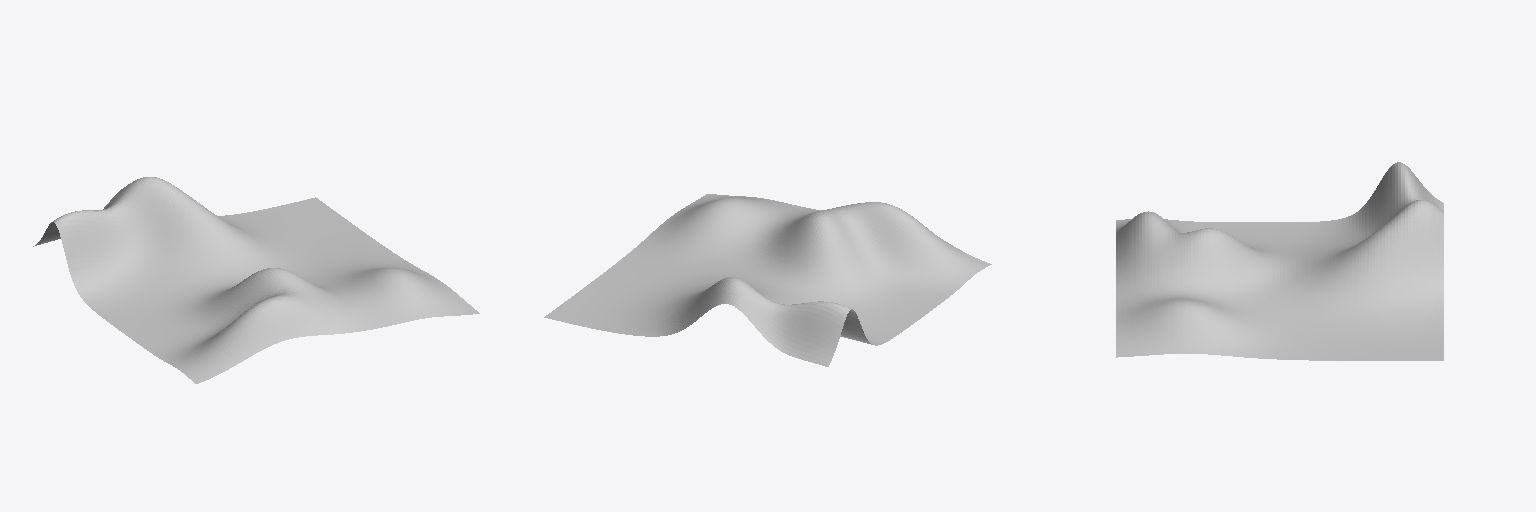
Rendered from Mountain_8Peaks_150Height_42Seed_blend.obj.
The picture shows the model from 3 angles: view 1: azimuth 30°, elevation 25°; view 2: azimuth 150°, elevation 25°; view 3: azimuth 270°, elevation 25°; orthographic projection.
Visible parts, largest first — view 1: Mountain_8Peaks_150Height_42Seed; view 2: Mountain_8Peaks_150Height_42Seed; view 3: Mountain_8Peaks_150Height_42Seed.
Part boxes in pixels (left/top/right/bottom): Mountain_8Peaks_150Height_42Seed: left=33, top=177, right=479, bottom=383; Mountain_8Peaks_150Height_42Seed: left=544, top=194, right=991, bottom=366; Mountain_8Peaks_150Height_42Seed: left=1116, top=162, right=1443, bottom=360.
Bounding box in the file's own units: 1000 × 242 × 1000.